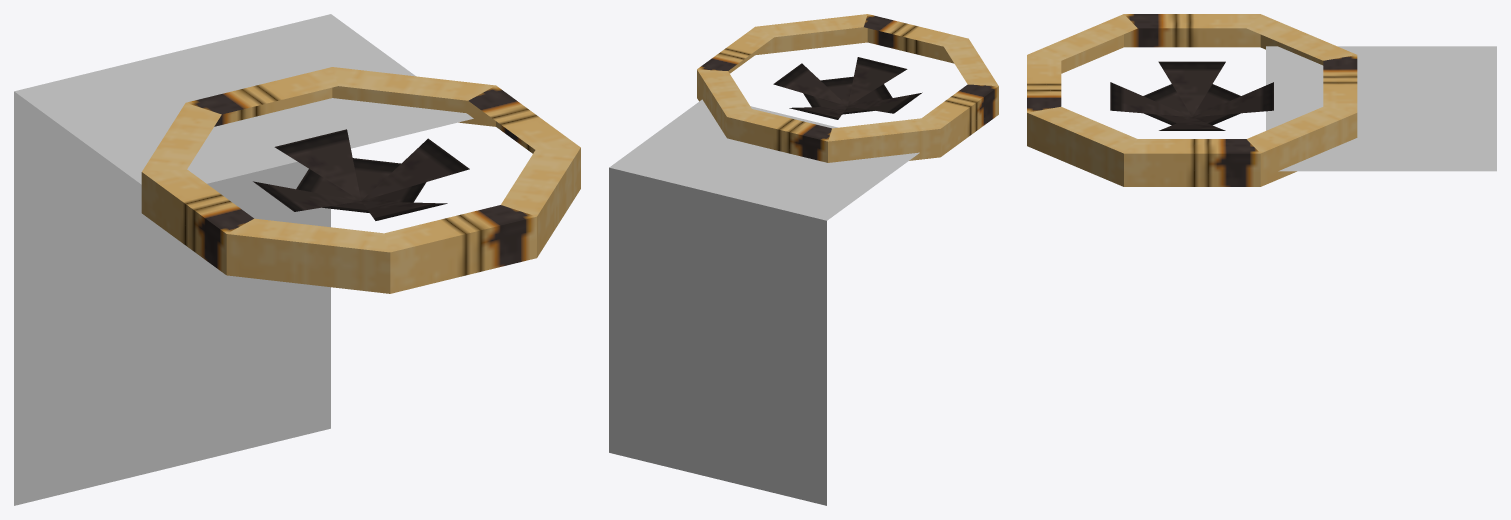
File: altar_of_arcana_main.obj
The picture shows the model from 3 angles, left to right: view 1: azimuth 30°, elevation 25°; view 2: azimuth 150°, elevation 25°; view 3: azimuth 270°, elevation 25°; orthographic projection. The views are drawn at different scales.
Parts seen in each view (by area): view 1: ENSORCELLATION_MAIN_Cylinder.001; view 2: ENSORCELLATION_MAIN_Cylinder.001; view 3: ENSORCELLATION_MAIN_Cylinder.001.
Boxes of the visible parts, <box> form: ENSORCELLATION_MAIN_Cylinder.001: <box>14,14,580,505</box>; ENSORCELLATION_MAIN_Cylinder.001: <box>609,14,998,505</box>; ENSORCELLATION_MAIN_Cylinder.001: <box>1027,14,1496,186</box>.
Size of the model in its own units: 0.5589 by 0.6719 by 0.7951.
